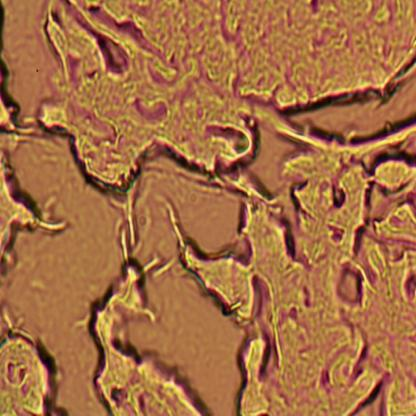Stage I: (51, 0, 416, 194), (262, 170, 416, 416)
